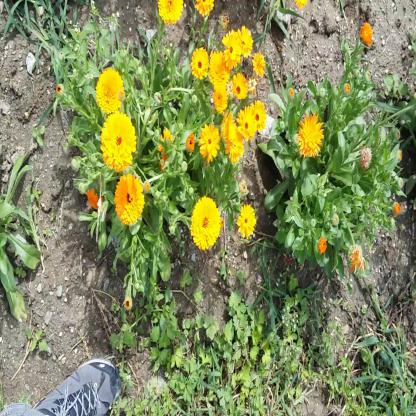marigold: (100, 110, 134, 168), (114, 172, 146, 226), (190, 197, 220, 248), (95, 69, 125, 115), (297, 110, 324, 154), (155, 128, 177, 170), (198, 120, 219, 160), (208, 50, 230, 88), (225, 125, 245, 164), (240, 103, 262, 134), (156, 0, 184, 24), (237, 205, 256, 240), (235, 24, 254, 58), (192, 45, 210, 80), (220, 110, 236, 147), (84, 185, 105, 210), (224, 32, 240, 64), (230, 72, 247, 101), (212, 84, 227, 114), (251, 51, 266, 77)
